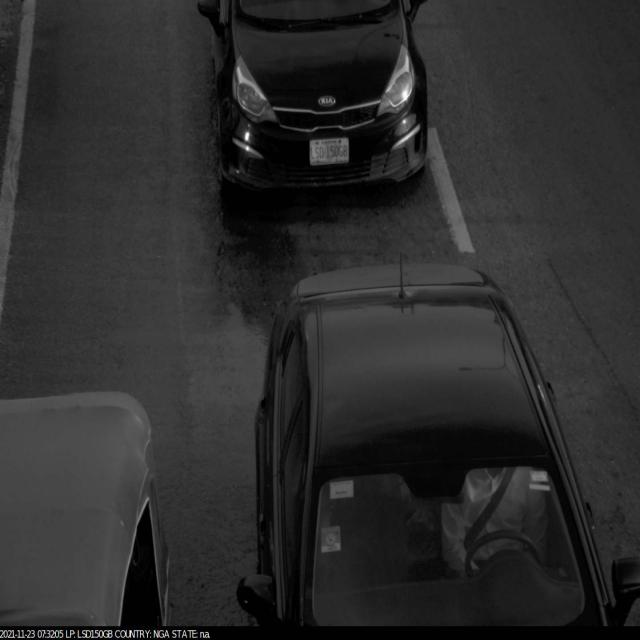windshield: (298, 428, 608, 630)
